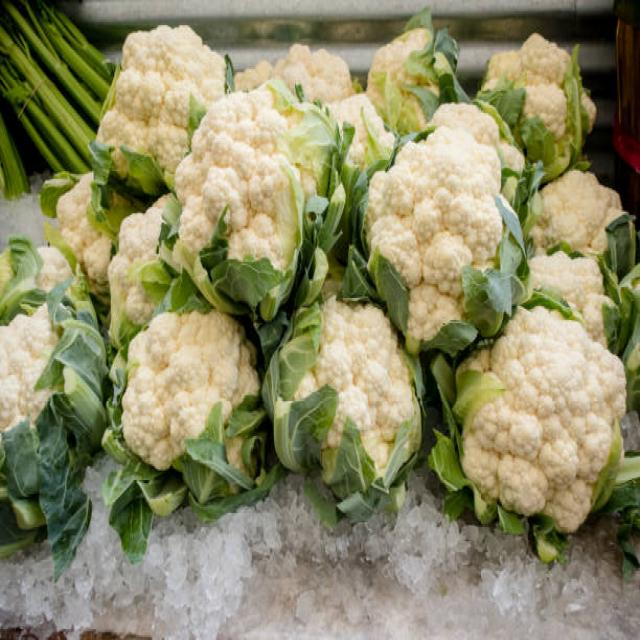Cauliflower head: (268, 285, 436, 539), (376, 90, 521, 345), (184, 95, 353, 302), (458, 368, 636, 564), (76, 2, 250, 179), (0, 304, 105, 502)
